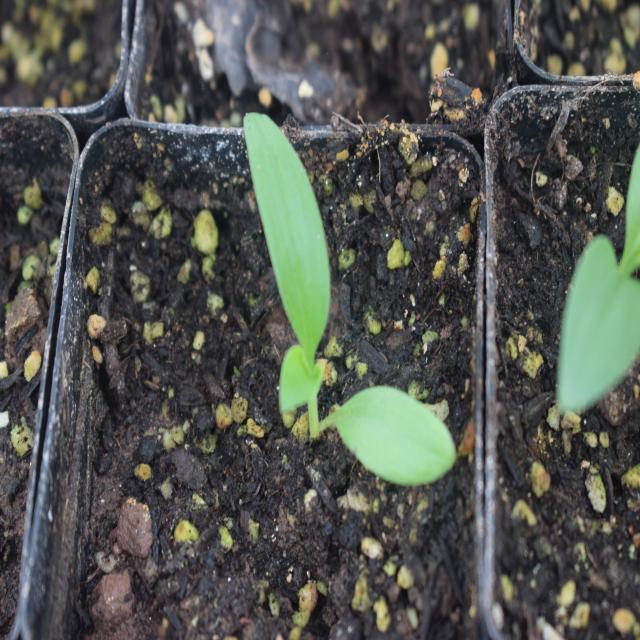Common Dayflower: (235, 114, 454, 480)
